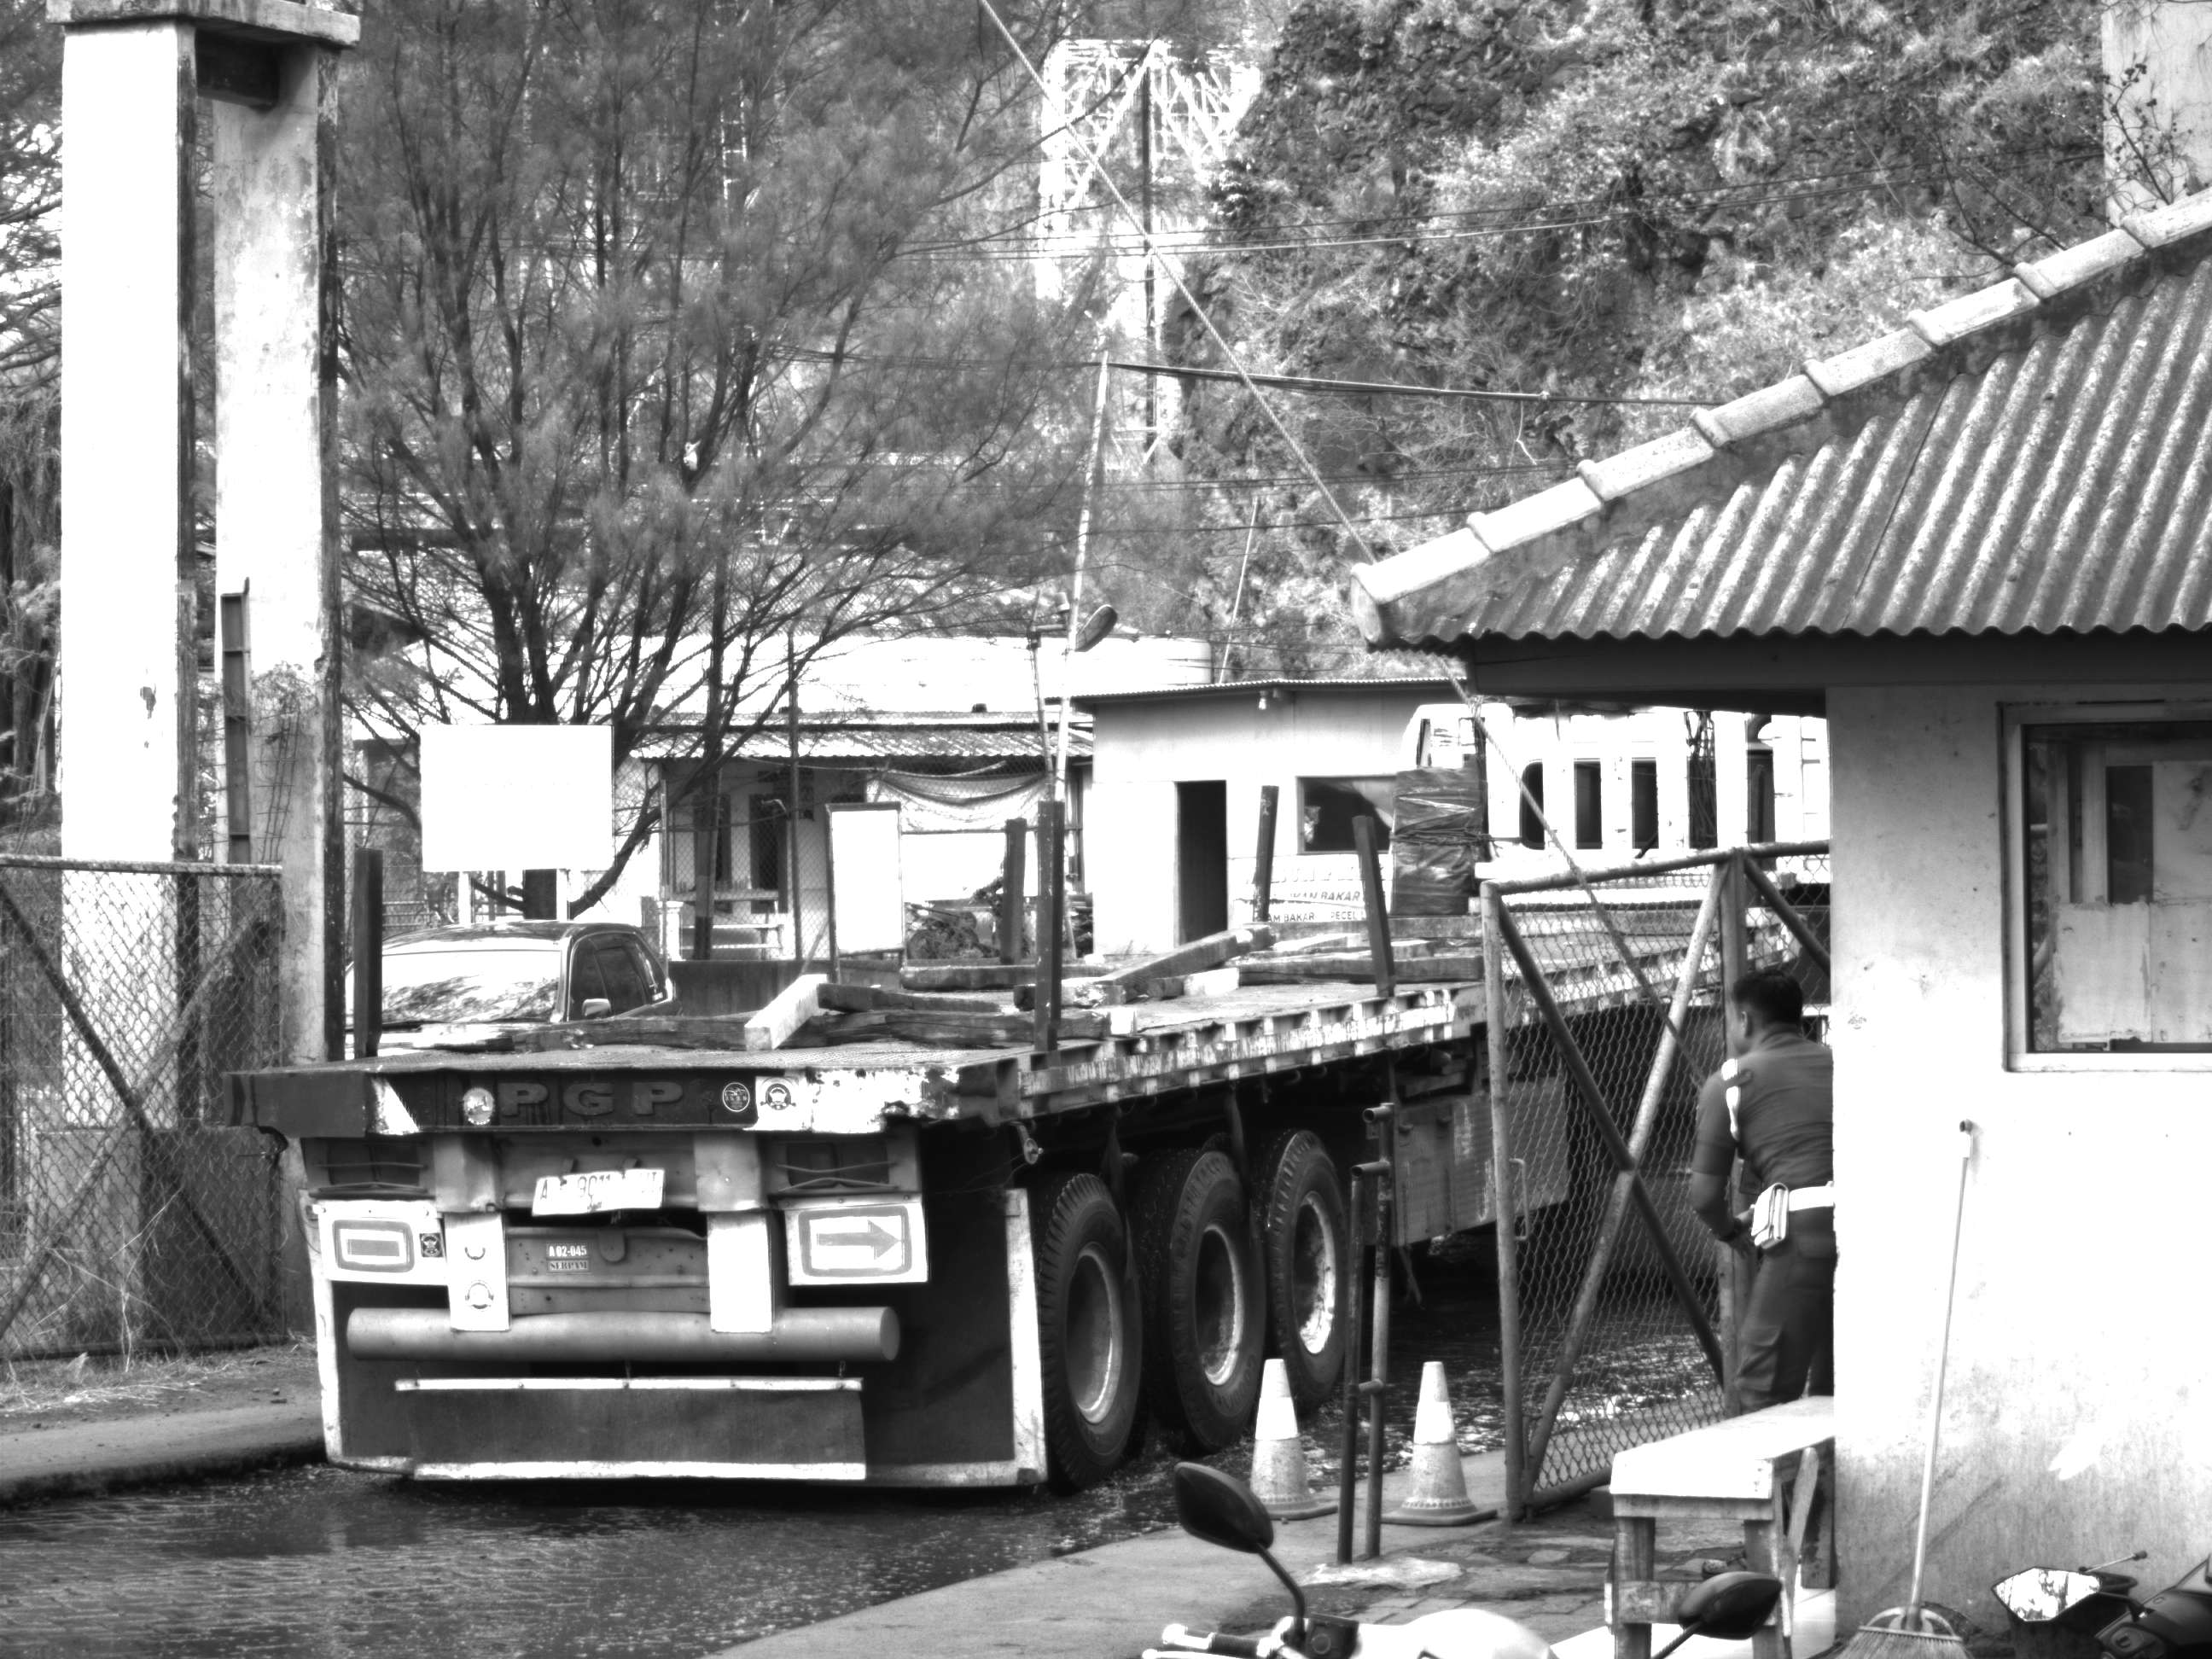day_truck_rear: (212, 1024, 1163, 1506)
plate: (528, 1161, 666, 1222)
